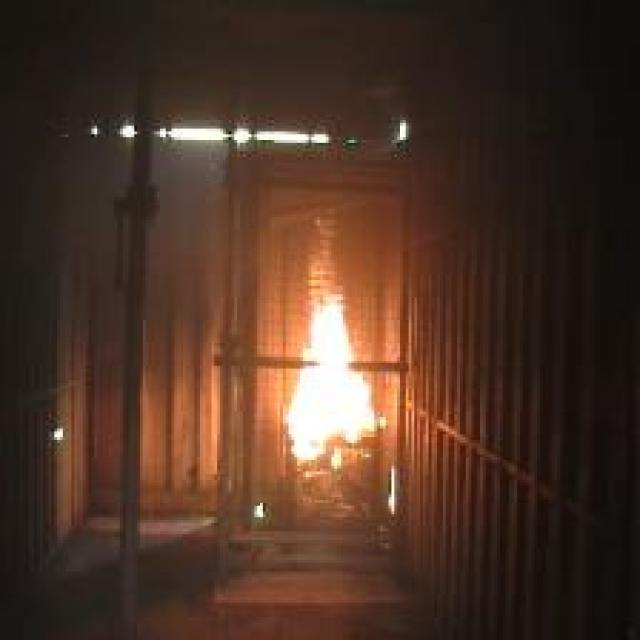Fire: (283, 291, 388, 460)
